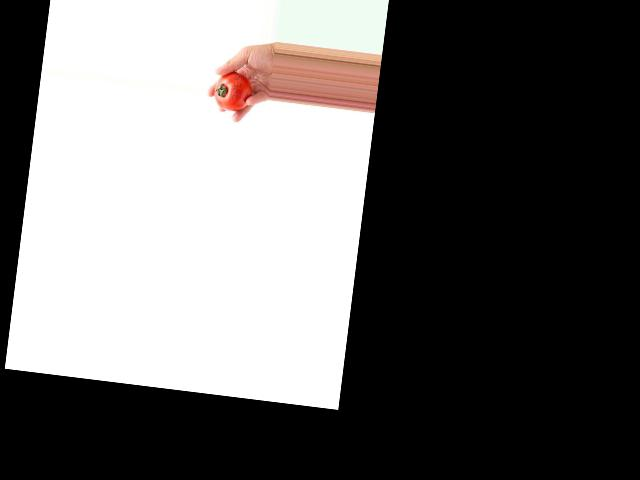tomato: (212, 70, 253, 113)
